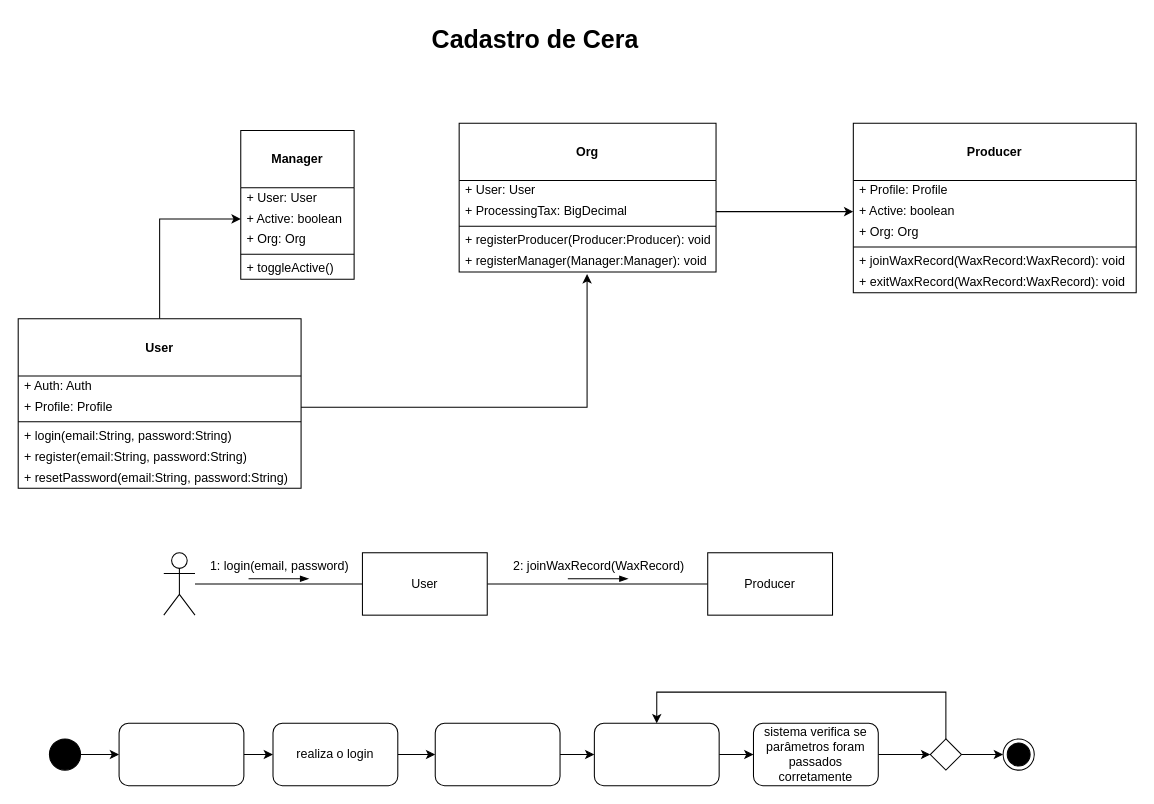
Image size: 1154x804. Some labels were removed from this diagram. Each missing label, with the centre of its shape:
"insere login e senha" belongs at pixel 181 754.
"Manager/Org" belongs at pixel 179 583.
"passa as credenciais de registro" belongs at pixel 656 754.
"seleciona a opção de registrar entrada de cera" belongs at pixel 497 754.
